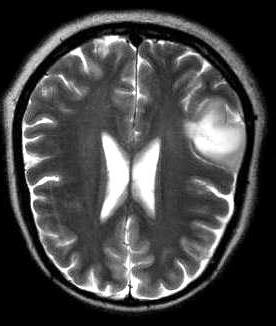Normal_Brain: (6, 6, 276, 326)
